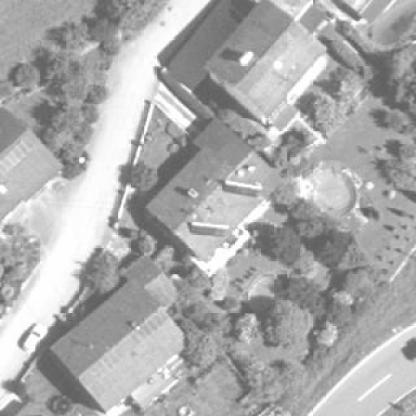solar-pv-panel: (223, 182, 259, 197), (189, 225, 227, 236)
